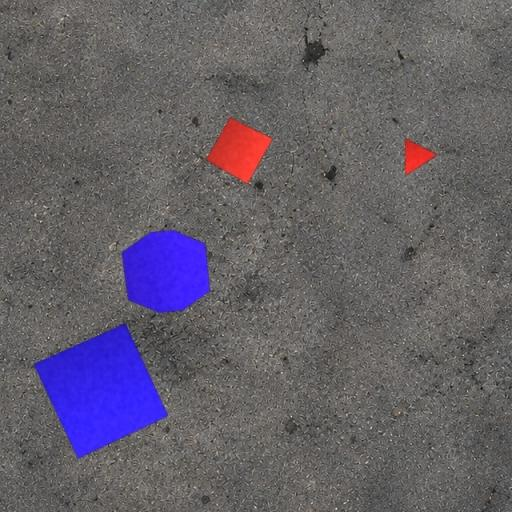BLUE_SQUARE: (32, 322, 170, 460)
RED_SQUARE: (206, 117, 274, 185)
